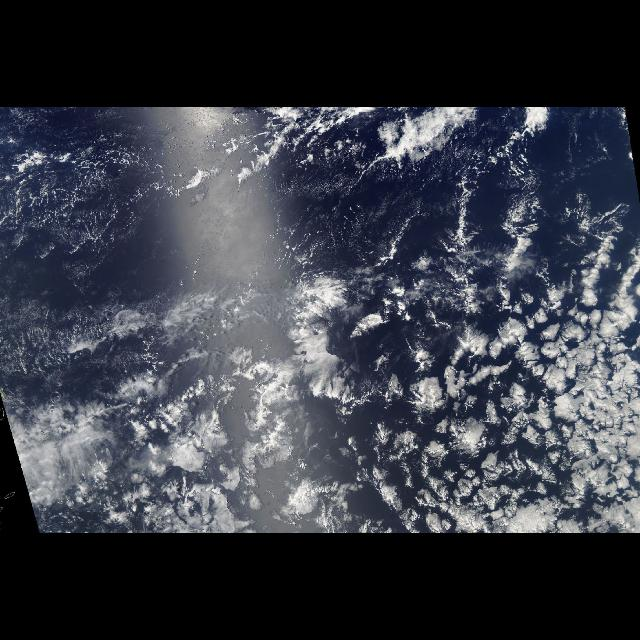Flower: (298, 212, 638, 532)
Gravel: (2, 127, 236, 281)
Sugar: (0, 107, 242, 293)
